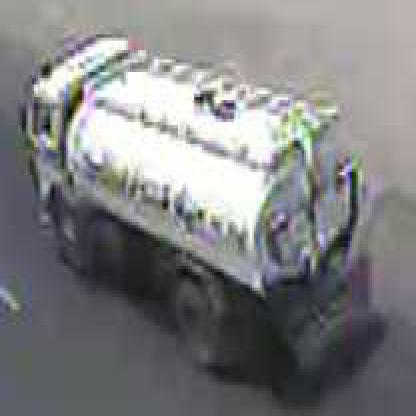truck: (27, 39, 367, 370)
